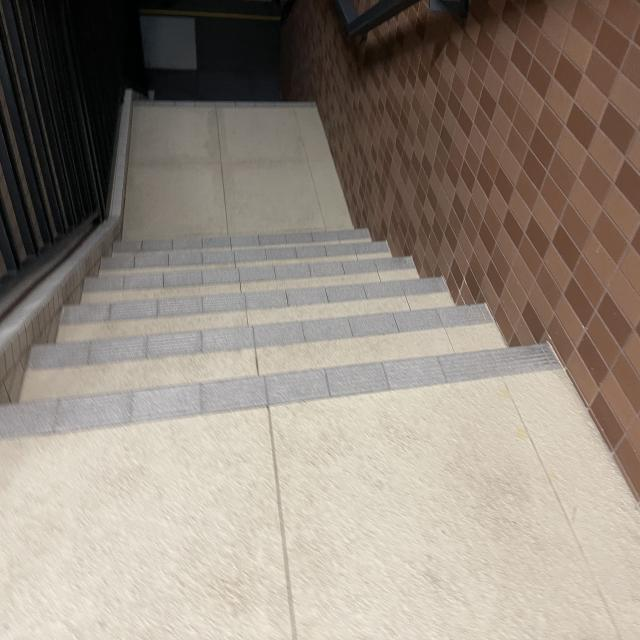Stairs: (0, 235, 585, 448), (112, 70, 361, 342)
